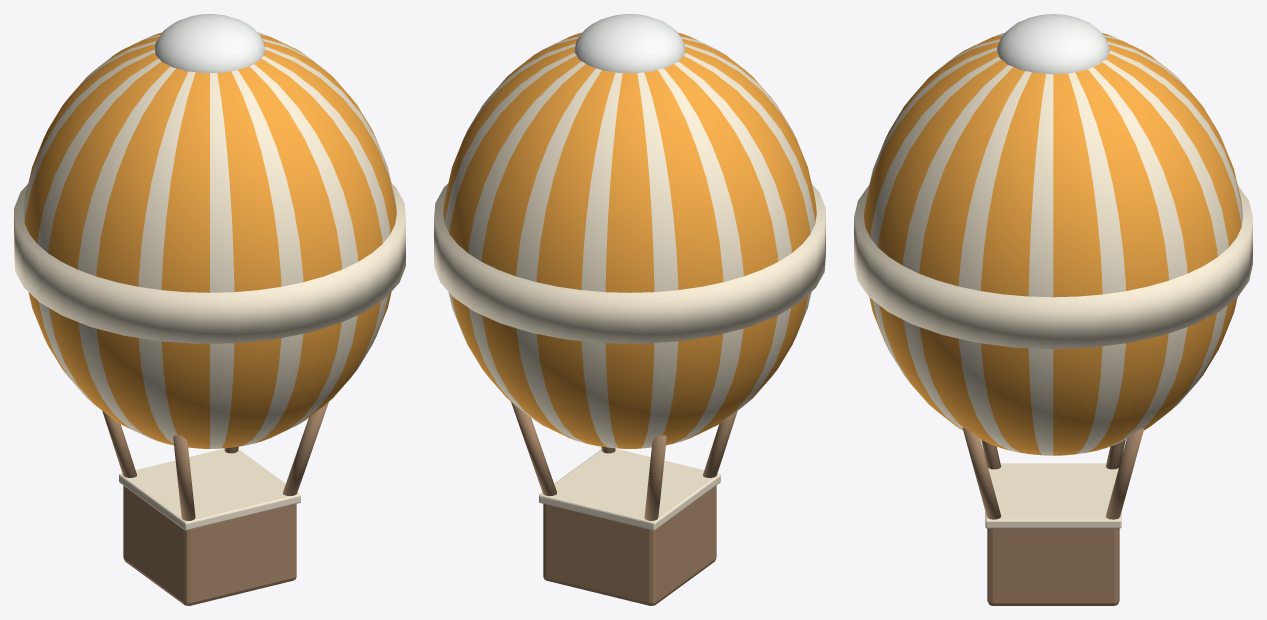
The model's file is balloon.glb.
3 views of the same model, side by side, from view 1: azimuth 30°, elevation 25°; view 2: azimuth 150°, elevation 25°; view 3: azimuth 270°, elevation 25° (orthographic).
Parts seen in each view (by area): view 1: balloon_envelope, balloon_band, balloon_basket_box, balloon_basket_rim, balloon_snow_cap, balloon_rope_1, balloon_rope_3, balloon_rope_2; view 2: balloon_envelope, balloon_band, balloon_basket_box, balloon_basket_rim, balloon_snow_cap, balloon_rope_0, balloon_rope_2, balloon_rope_3; view 3: balloon_envelope, balloon_band, balloon_basket_box, balloon_basket_rim, balloon_snow_cap, balloon_rope_0, balloon_rope_1.
Boxes of the visible parts, x1,y1,x2,y2 form: balloon_envelope: [23, 32, 396, 448]; balloon_band: [14, 183, 405, 343]; balloon_basket_box: [123, 485, 296, 605]; balloon_basket_rim: [119, 448, 300, 530]; balloon_snow_cap: [154, 14, 265, 73]; balloon_rope_1: [283, 402, 328, 496]; balloon_rope_3: [173, 435, 195, 520]; balloon_rope_2: [102, 411, 136, 477]; balloon_envelope: [443, 32, 816, 448]; balloon_band: [434, 183, 825, 343]; balloon_basket_box: [543, 485, 716, 605]; balloon_basket_rim: [539, 448, 720, 530]; balloon_snow_cap: [574, 14, 685, 73]; balloon_rope_0: [511, 402, 556, 496]; balloon_rope_2: [644, 435, 666, 520]; balloon_rope_3: [703, 411, 737, 477]; balloon_envelope: [864, 33, 1242, 455]; balloon_band: [854, 185, 1252, 349]; balloon_basket_box: [987, 528, 1119, 605]; balloon_basket_rim: [985, 463, 1121, 528]; balloon_snow_cap: [997, 14, 1109, 74]; balloon_rope_0: [1106, 428, 1144, 519]; balloon_rope_1: [962, 428, 1000, 519].
Size of the model in its own units: 0.906 by 1.4 by 0.906.
